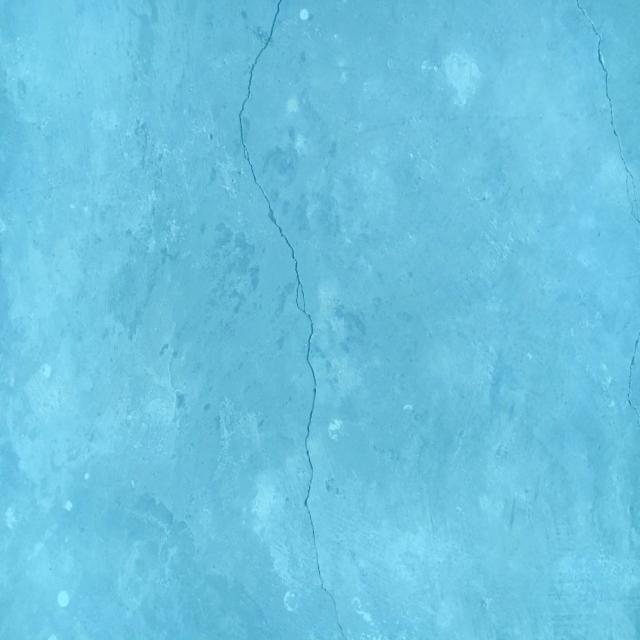crack: (231, 0, 348, 640), (576, 0, 639, 223), (627, 335, 640, 420)
